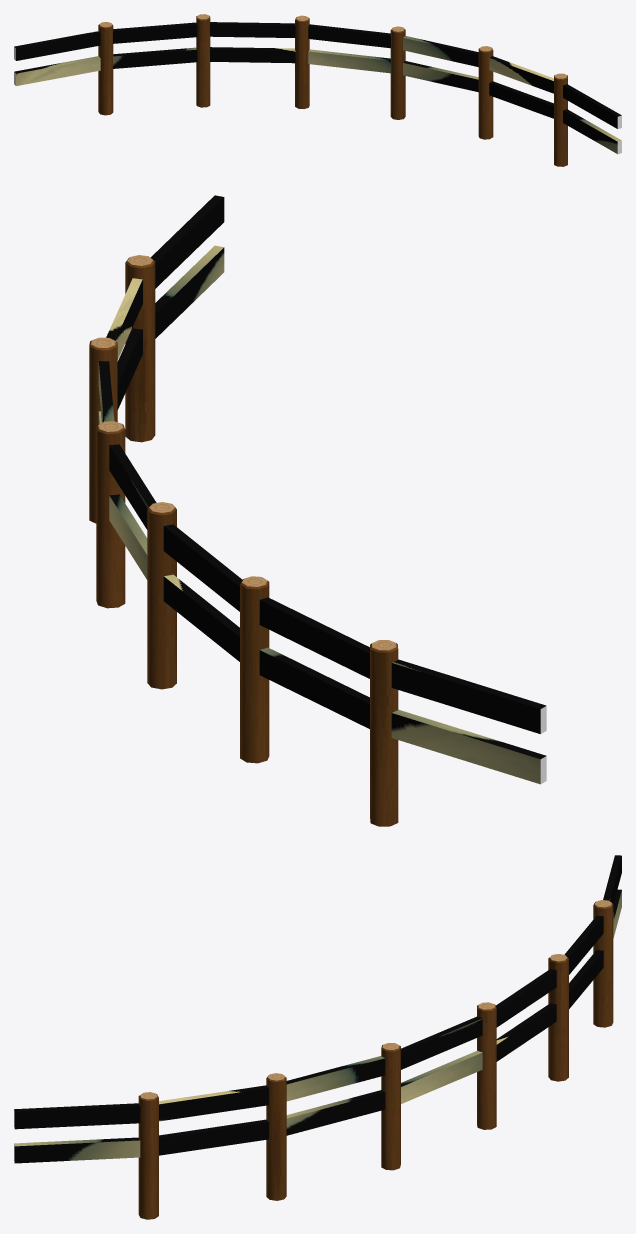
The model's file is Path_Fence_Curve_4x4.fbx.
The picture shows the model from 3 angles, top to bottom: view 1: azimuth 30°, elevation 25°; view 2: azimuth 150°, elevation 25°; view 3: azimuth 270°, elevation 25°; orthographic projection. The views are drawn at different scales.
Parts seen in each view (by area): view 1: Path_Fence_Curve_4x4; view 2: Path_Fence_Curve_4x4; view 3: Path_Fence_Curve_4x4.
Part boxes in pixels (x1=…): Path_Fence_Curve_4x4: x1=14, y1=14, x2=621, y2=166; Path_Fence_Curve_4x4: x1=89, y1=195, x2=546, y2=826; Path_Fence_Curve_4x4: x1=14, y1=855, x2=621, y2=1219.
Size of the model in its own units: 403 by 87.5 by 403.
